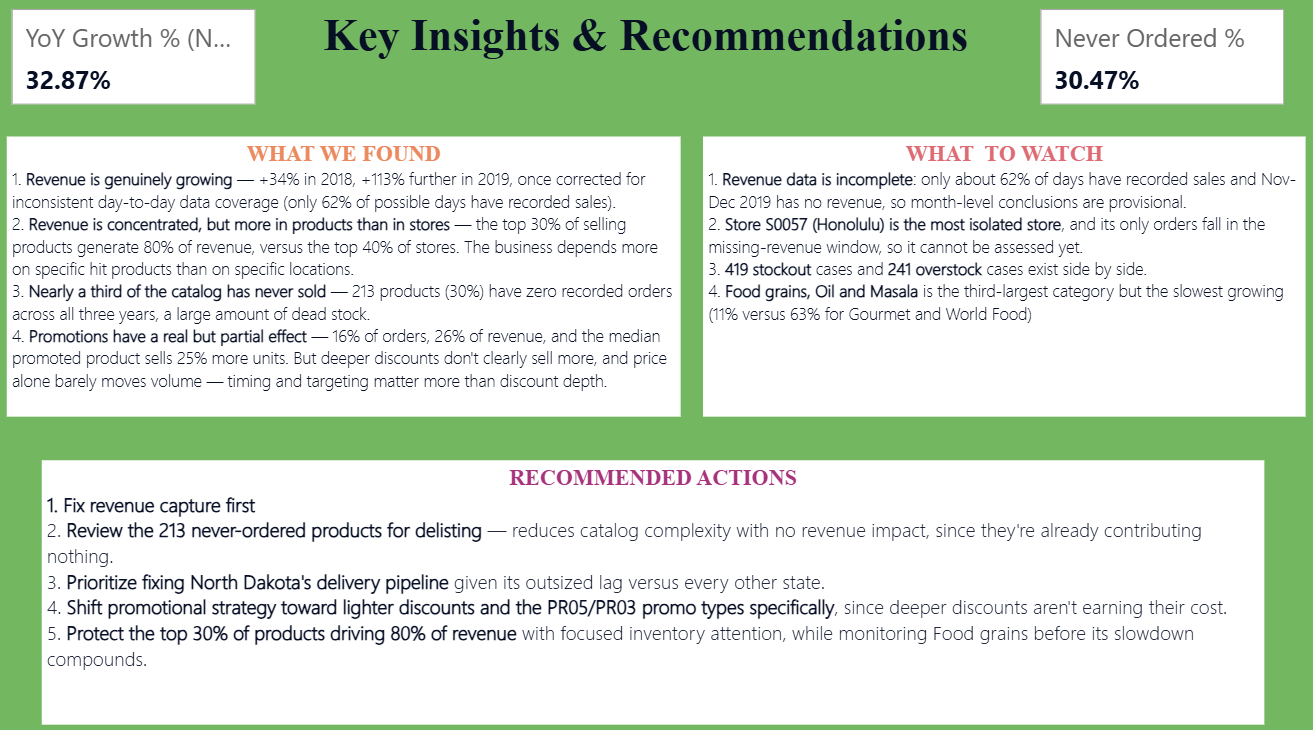

The page's visual inventory and layout, read from the dashboard file:
{"tool":"powerbi","page":{"name":"Key Insights ","canvas":[1280,720],"ordinal":8},"visuals":[{"type":"textbox","box":[267.6,9.6,724.5,63.1],"z":0},{"type":"cardVisual","fields":{"Data":["Sales.YoY Growth % (Normalized)"]},"box":[13,10.1,245,102.9],"z":1000},{"type":"cardVisual","fields":{"Data":["Products.Never Ordered %"]},"box":[1006.3,10.1,245,102.9],"z":2000},{"type":"textbox","box":[13.7,137.2,650.4,270.3],"z":3000},{"type":"textbox","box":[684.7,137.2,581.8,270.3],"z":4000},{"type":"textbox","box":[46.7,450.1,1180.1,255.2],"z":5000}]}

Visuals, with their boxes in screenshot pixels (x1, y1, x2, y2), scaled from the page's 1280x720 canvas onto the 1313x730 screenshot:
textbox: x1=274, y1=10, x2=1018, y2=74
cardVisual - Sales.YoY Growth % (Normalized): x1=13, y1=10, x2=265, y2=115
cardVisual - Products.Never Ordered %: x1=1032, y1=10, x2=1284, y2=115
textbox: x1=14, y1=139, x2=681, y2=413
textbox: x1=702, y1=139, x2=1299, y2=413
textbox: x1=48, y1=456, x2=1258, y2=715
